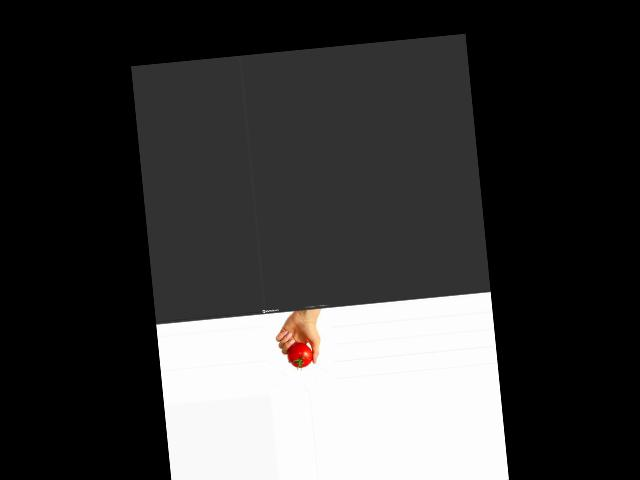tomato: (287, 341, 314, 369)
